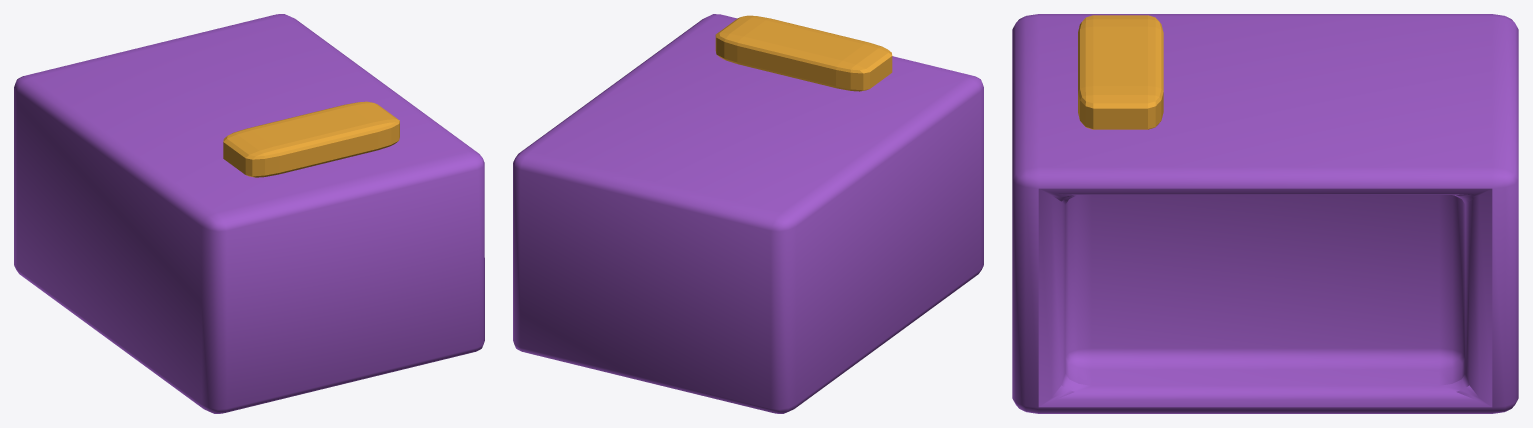
The model's file is mainboc.fbx.
3 renders of one model, left to right at view 1: azimuth 30°, elevation 25°; view 2: azimuth 150°, elevation 25°; view 3: azimuth 270°, elevation 25°, orthographic. The views are drawn at different scales.
Parts seen in each view (by area): view 1: Cube, Cube.002; view 2: Cube, Cube.002; view 3: Cube, Cube.002.
Boxes of the visible parts, <box> form: Cube: <box>14,14,484,413</box>; Cube.002: <box>223,101,399,177</box>; Cube: <box>513,14,983,413</box>; Cube.002: <box>715,15,892,91</box>; Cube: <box>1012,14,1518,413</box>; Cube.002: <box>1078,15,1163,129</box>.
Size of the model in its own units: 278 by 218 by 354.
